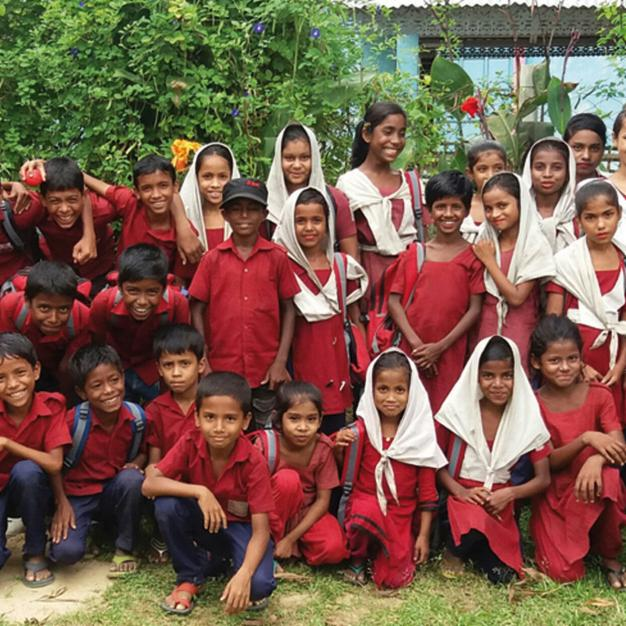person: (528, 316, 624, 588), (339, 347, 442, 582), (175, 370, 267, 608), (445, 334, 535, 576), (199, 176, 295, 388), (275, 188, 364, 398), (398, 164, 491, 364), (61, 344, 143, 569), (346, 98, 422, 317), (353, 104, 434, 296), (256, 383, 339, 567), (475, 168, 555, 356), (261, 119, 352, 283), (87, 242, 192, 380), (1, 333, 62, 570), (173, 139, 258, 284), (3, 251, 93, 373), (33, 151, 124, 269), (518, 134, 586, 270), (574, 178, 626, 343), (117, 151, 185, 270), (146, 325, 200, 464), (1, 169, 41, 274), (566, 114, 608, 186), (464, 136, 506, 199), (613, 107, 626, 182)
